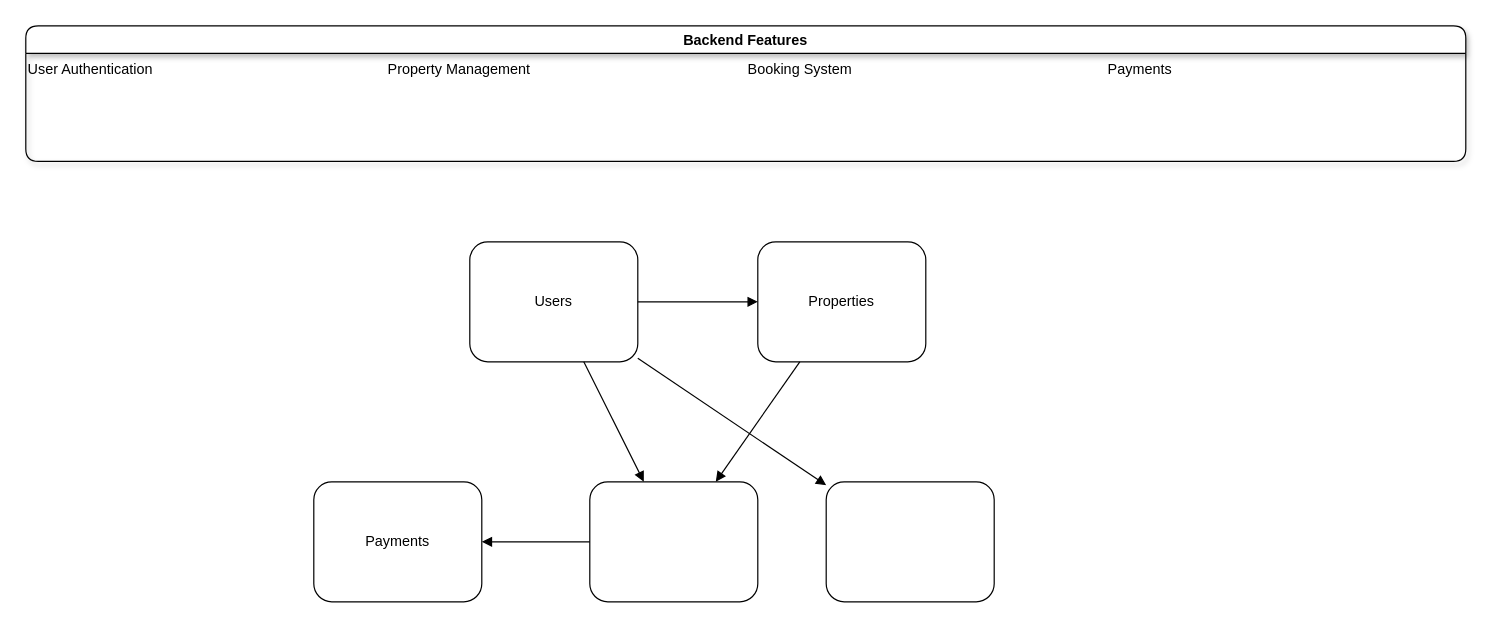
Some shapes in this 1494 by 623 pixel diagram are drawn without their labels. Each missing label, with the centre of its shape:
Bookings: [673,541]
Reviews: [909,541]
